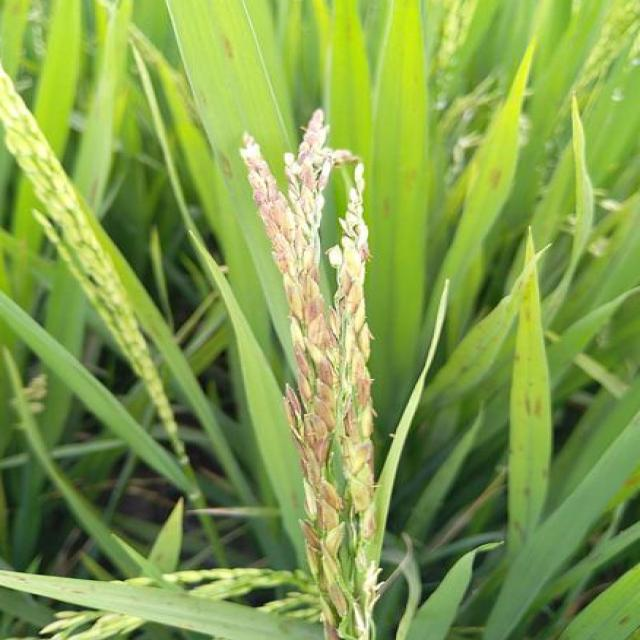Panicle Blight: (241, 110, 351, 640), (330, 189, 378, 540)
